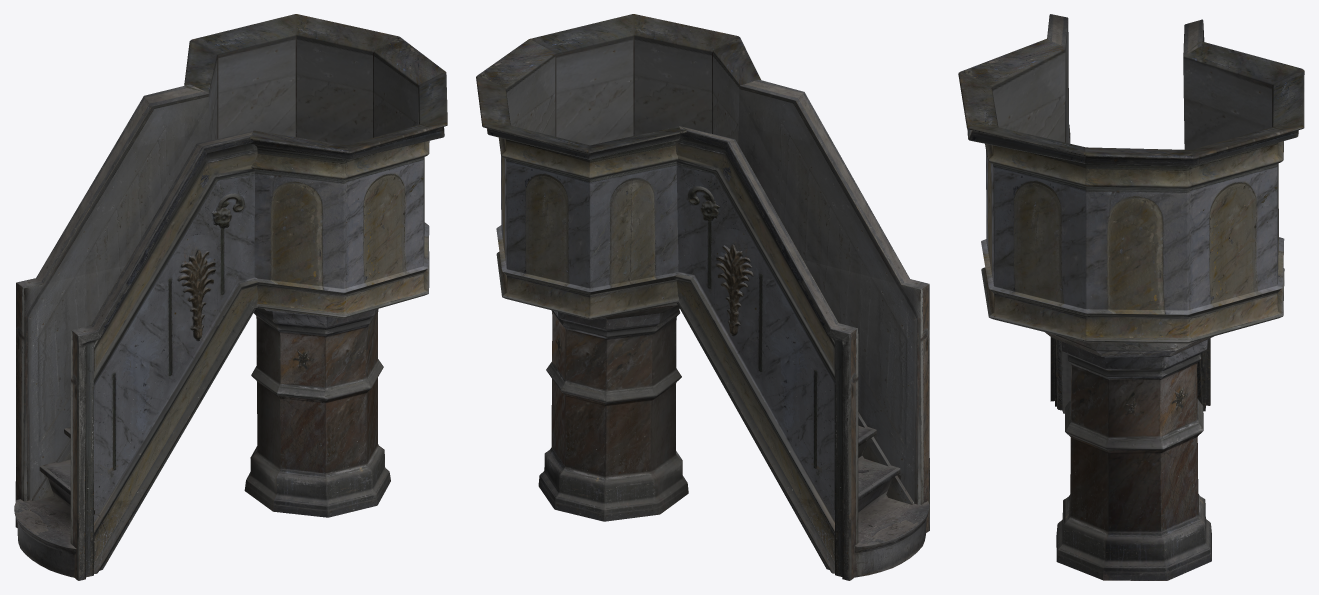
The model's file is sm_ChurchPulpit_01_01.fbx.
3 renders of one model, left to right at view 1: azimuth 30°, elevation 25°; view 2: azimuth 150°, elevation 25°; view 3: azimuth 270°, elevation 25°, orthographic. The views are drawn at different scales.
Parts seen in each view (by area): view 1: sm_ChurchPulpit_01_01_LOD0; view 2: sm_ChurchPulpit_01_01_LOD0; view 3: sm_ChurchPulpit_01_01_LOD0.
Boxes of the visible parts, <box> form: sm_ChurchPulpit_01_01_LOD0: <box>14,14,447,580</box>; sm_ChurchPulpit_01_01_LOD0: <box>476,14,929,580</box>; sm_ChurchPulpit_01_01_LOD0: <box>958,14,1304,580</box>.
Bounding box in the file's own units: 321 × 214 × 309.
